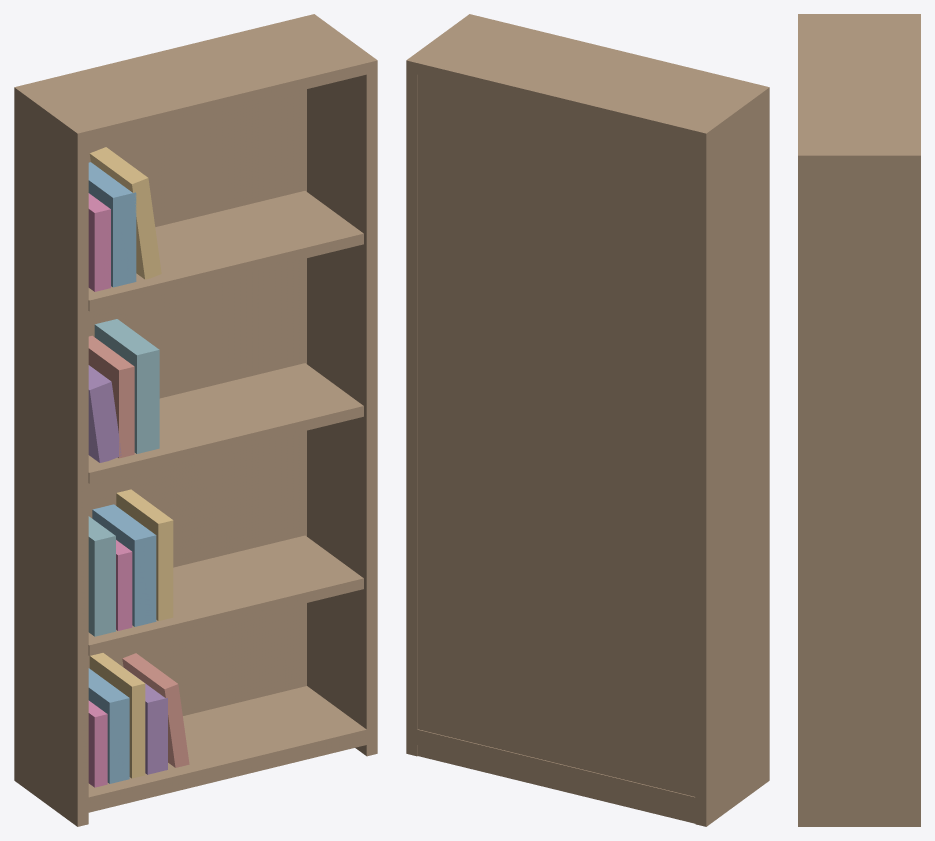
Rendered from container_shelf.glb.
3 views of the same model, side by side, from view 1: azimuth 30°, elevation 25°; view 2: azimuth 150°, elevation 25°; view 3: azimuth 270°, elevation 25° (orthographic). The views are drawn at different scales.
Visible parts, largest first — view 1: Csh_Back, Csh_SideL, Csh_SideR, Csh_Top, Csh_Bottom, Csh_Shelf2, Csh_Shelf1, Csh_Shelf0, Csh_Book11, Csh_Book7, Csh_Book13, Csh_Book14 (+11 smaller); view 2: Csh_Back, Csh_SideL, Csh_Top, Csh_SideR, Csh_Bottom; view 3: Csh_SideR, Csh_Top.
Part boxes in pixels (x1,y1,x2,y2): Csh_Back: (88, 89, 306, 715); Csh_SideL: (14, 91, 88, 826); Csh_SideR: (307, 64, 377, 756); Csh_Top: (14, 14, 377, 144); Csh_Bottom: (14, 686, 377, 815); Csh_Shelf2: (88, 191, 363, 311); Csh_Shelf1: (88, 363, 363, 483); Csh_Shelf0: (88, 535, 363, 655); Csh_Book11: (94, 319, 159, 453); Csh_Book7: (92, 504, 156, 626); Csh_Book13: (88, 162, 136, 287); Csh_Book14: (89, 147, 161, 279); Csh_Back: (417, 75, 695, 823); Csh_SideL: (695, 91, 769, 826); Csh_Top: (406, 14, 769, 144); Csh_SideR: (406, 64, 417, 756); Csh_Bottom: (406, 727, 769, 814); Csh_SideR: (798, 159, 920, 826); Csh_Top: (798, 14, 920, 166).
Bounding box in the file's own units: 0.82 × 1.81 × 0.3.
